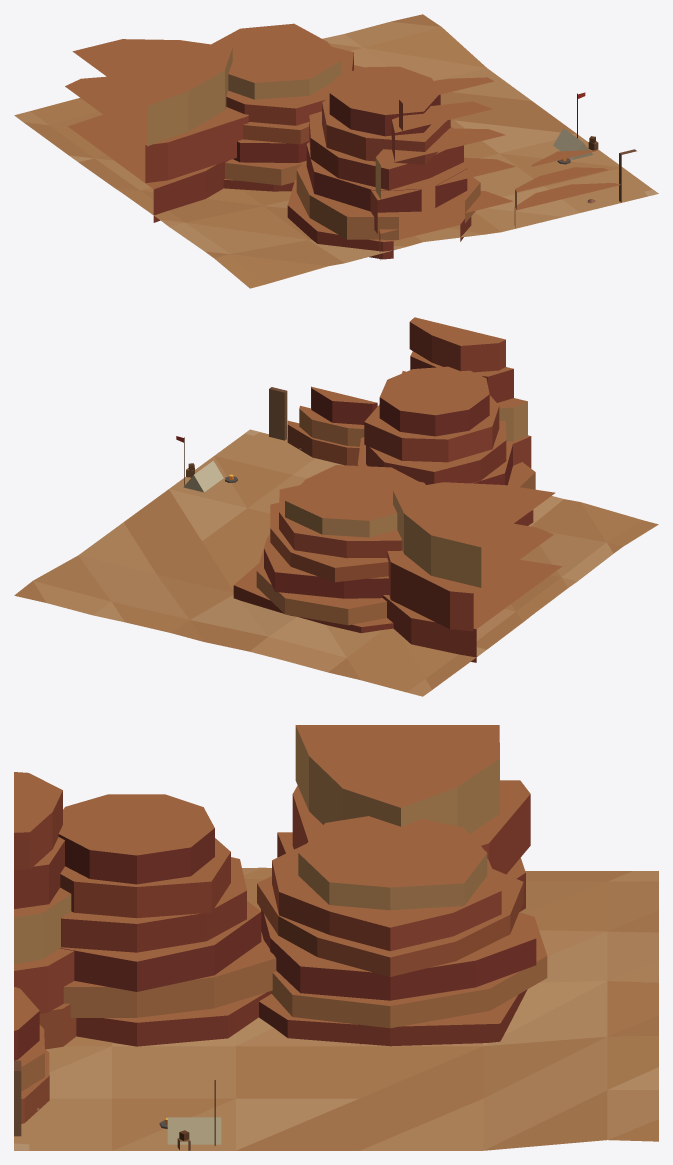
3 views of the same model, one above another, from view 1: azimuth 30°, elevation 25°; view 2: azimuth 150°, elevation 25°; view 3: azimuth 270°, elevation 25° (orthographic). The views are drawn at different scales.
Parts seen in each view (by area): view 1: baked; view 2: baked; view 3: baked.
Part boxes in pixels (<box>): baked: <box>14,14,658,288</box>; baked: <box>14,317,658,696</box>; baked: <box>14,725,658,1150</box>.
Bounding box in the file's own units: 62.5 × 22.27 × 62.5.
